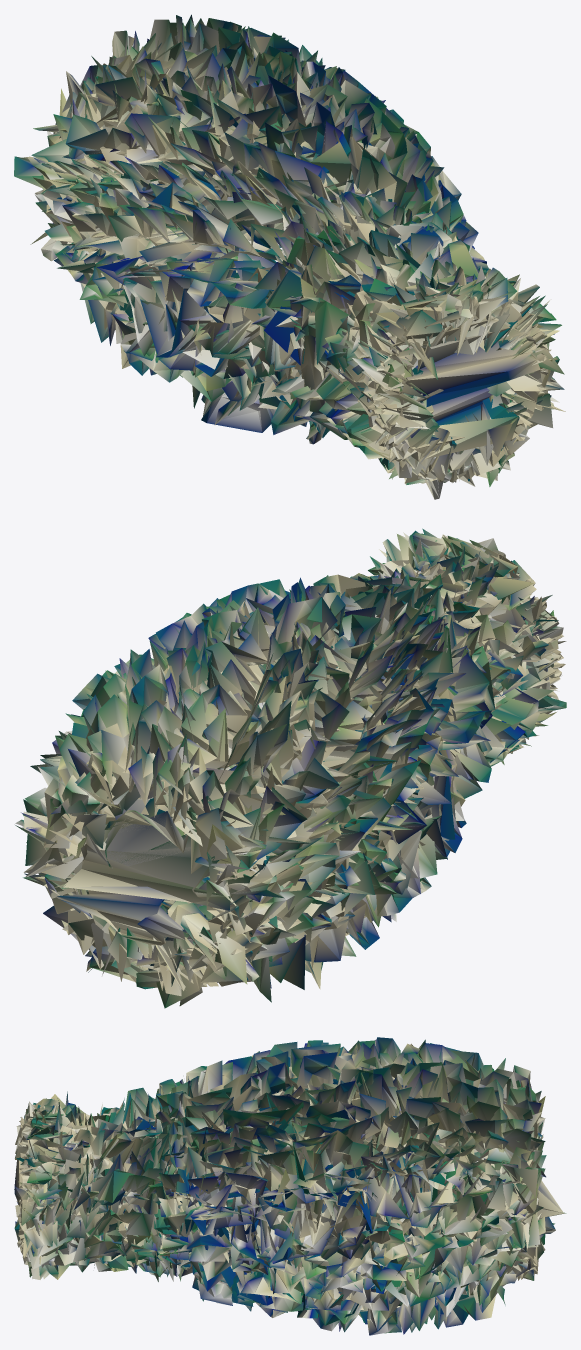
Rendered from lamp_shade_10_final300.obj.
3 views of the same model, one above another, from view 1: azimuth 30°, elevation 25°; view 2: azimuth 150°, elevation 25°; view 3: azimuth 270°, elevation 25° (orthographic). The views are drawn at different scales.
Bounding box in the file's own units: 1.03 × 1.02 × 1.92.
